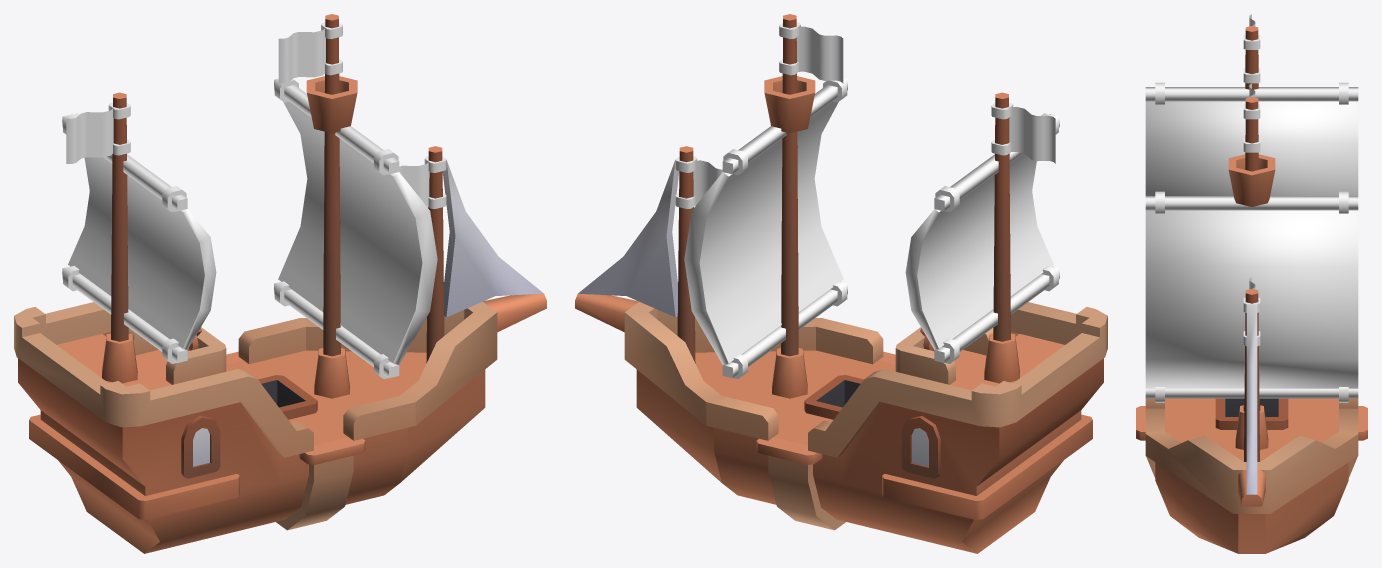
File: frigate.glb
The picture shows the model from 3 angles, left to right: view 1: azimuth 30°, elevation 25°; view 2: azimuth 150°, elevation 25°; view 3: azimuth 270°, elevation 25°; orthographic projection. The views are drawn at different scales.
Parts seen in each view (by area): view 1: ship-medium, sail-a, sail-b, flag-c, flag-b, flag-a; view 2: ship-medium, sail-a, sail-b, flag-b, flag-c, flag-a; view 3: sail-a, ship-medium, sail-b, flag-b, flag-c, flag-a.
Part boxes in pixels (x1,y1,x2,y2): ship-medium: (14, 14, 546, 553); sail-a: (274, 78, 437, 378); sail-b: (62, 113, 216, 363); flag-c: (66, 102, 130, 163); flag-b: (278, 22, 342, 83); flag-a: (399, 156, 446, 208); ship-medium: (575, 14, 1107, 553); sail-a: (684, 78, 847, 378); sail-b: (905, 113, 1059, 363); flag-b: (779, 22, 843, 83); flag-c: (991, 102, 1055, 163); flag-a: (675, 156, 722, 208); sail-a: (1145, 191, 1358, 402); ship-medium: (1136, 26, 1367, 553); sail-b: (1145, 82, 1358, 195); flag-b: (1243, 83, 1260, 152); flag-c: (1243, 14, 1260, 83); flag-a: (1243, 277, 1260, 346).
Size of the model in its own units: 1.3 by 1.22 by 0.5887.
2 materials, 1 textured.
